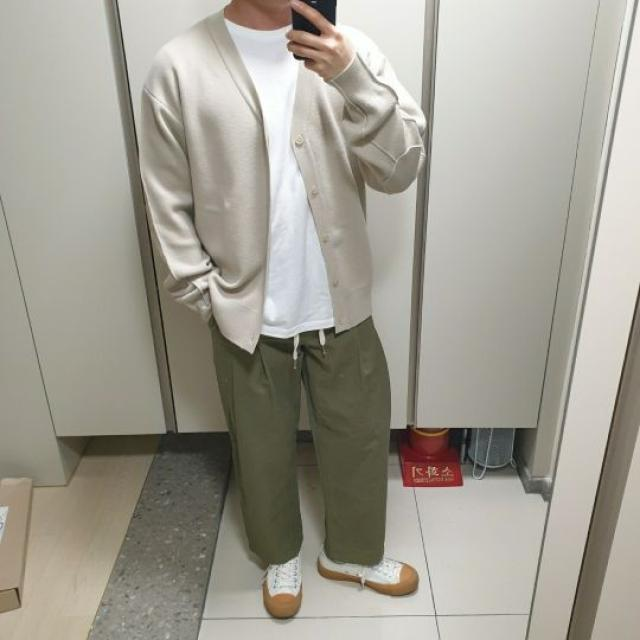cardigan: (138, 6, 428, 355)
cottonpants: (203, 298, 394, 568)
